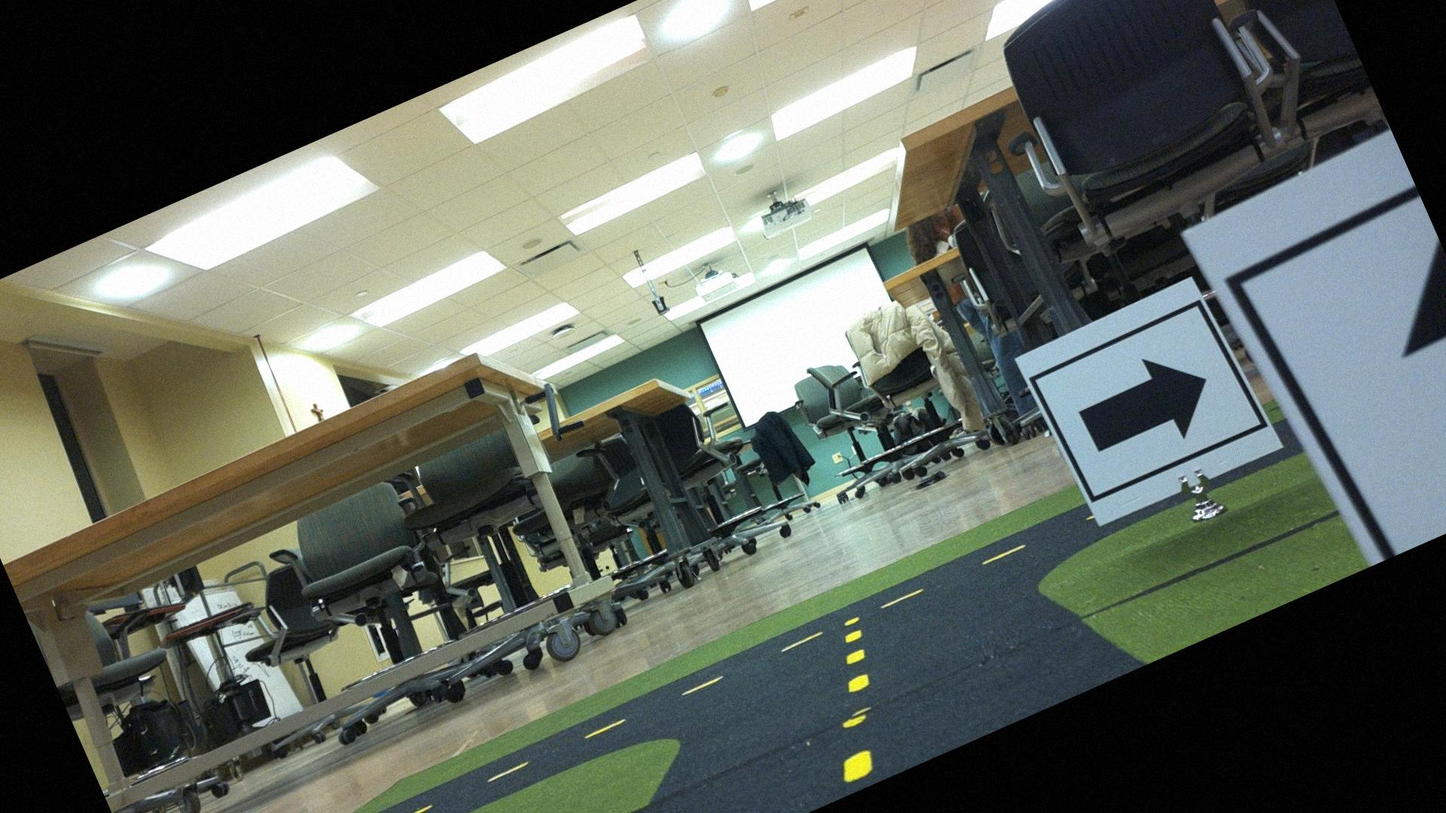turnleft: (1023, 278, 1272, 522)
yellowline: (790, 627, 913, 785)
